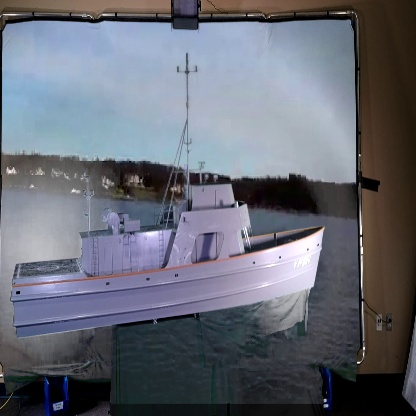YP689: (10, 49, 328, 342)
